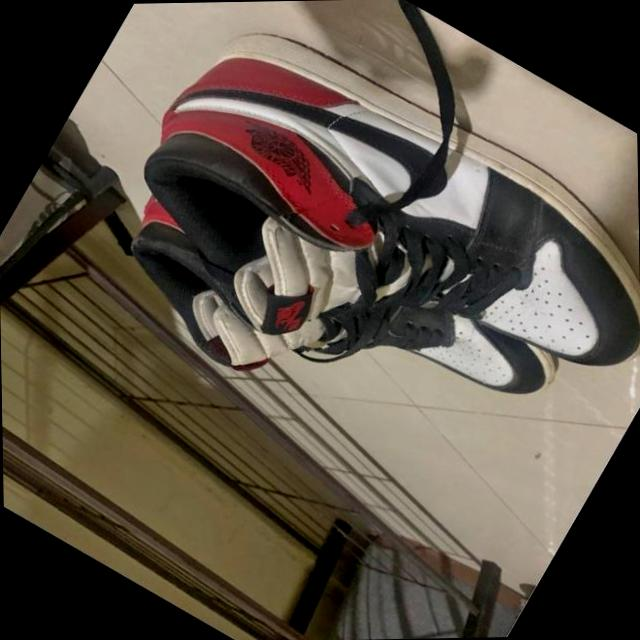nike_fake_jordan: (85, 0, 640, 507), (85, 125, 577, 525)
